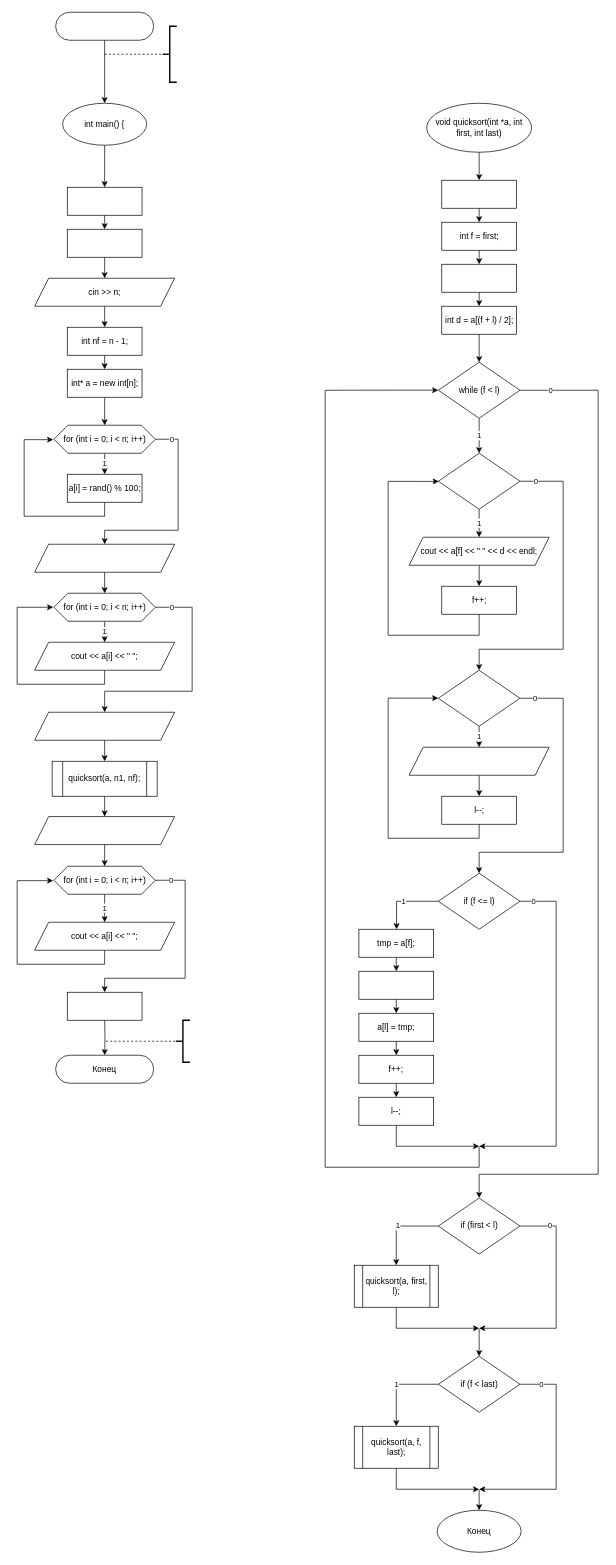
The diagram is 616 pixels wide and 1565 high, and some of its shapes have lost their labels. The centre of each missing label's shape, as x and y in pixels:
#include <iostream> #include <complex> using namespace std;: the point at 169,54
a[f] = a[l];: the point at 396,985
cout << "Final array:" << endl;: the point at 104,830
cout << "Start array:" << endl;: the point at 104,558
cout << a[l] << " " << d << endl;: the point at 478,761
cout << endl;: the point at 104,726
delete[]a;: the point at 104,1006
int l = last;: the point at 479,278
int n1 = 0;: the point at 104,243
int n;: the point at 104,201
int tmp = 0;: the point at 479,194
return 0; }: the point at 182,1041
while (a[f] < d): the point at 479,481
while (a[l] > d): the point at 479,698
Запуск: the point at 104,26
